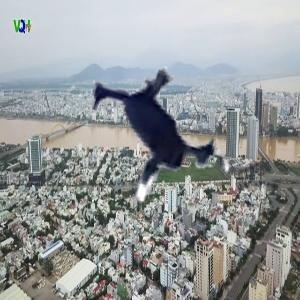drone: (48, 34, 253, 239)
